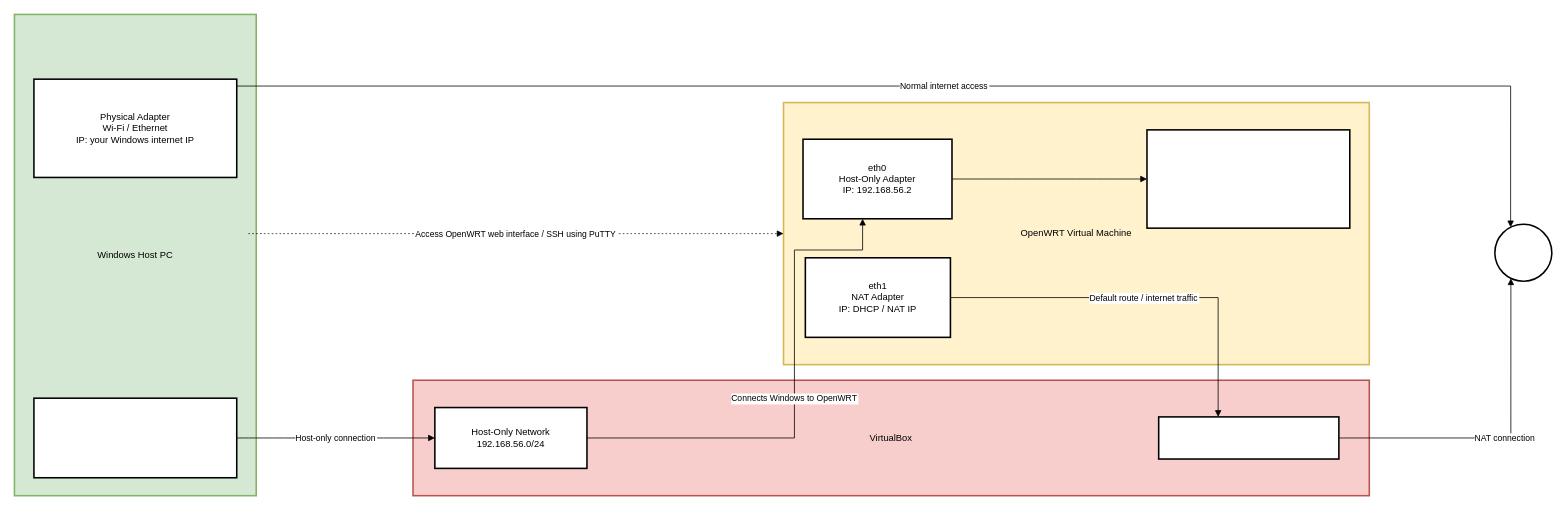
This 1565x509 diagram has some shape labels left out. The shapes that lost their labels are listed below. From the top down, each one's centre as x and y in pixels, then its label:
At (x=1248, y=179): "br-mng Management Bridge IP: OpenWRT management IP".
At (x=1523, y=252): "Internet".
At (x=135, y=437): "VirtualBox Host-Only Adapter IP: 192.168.56.1".
At (x=1248, y=437): "VirtualBox NAT Network".
